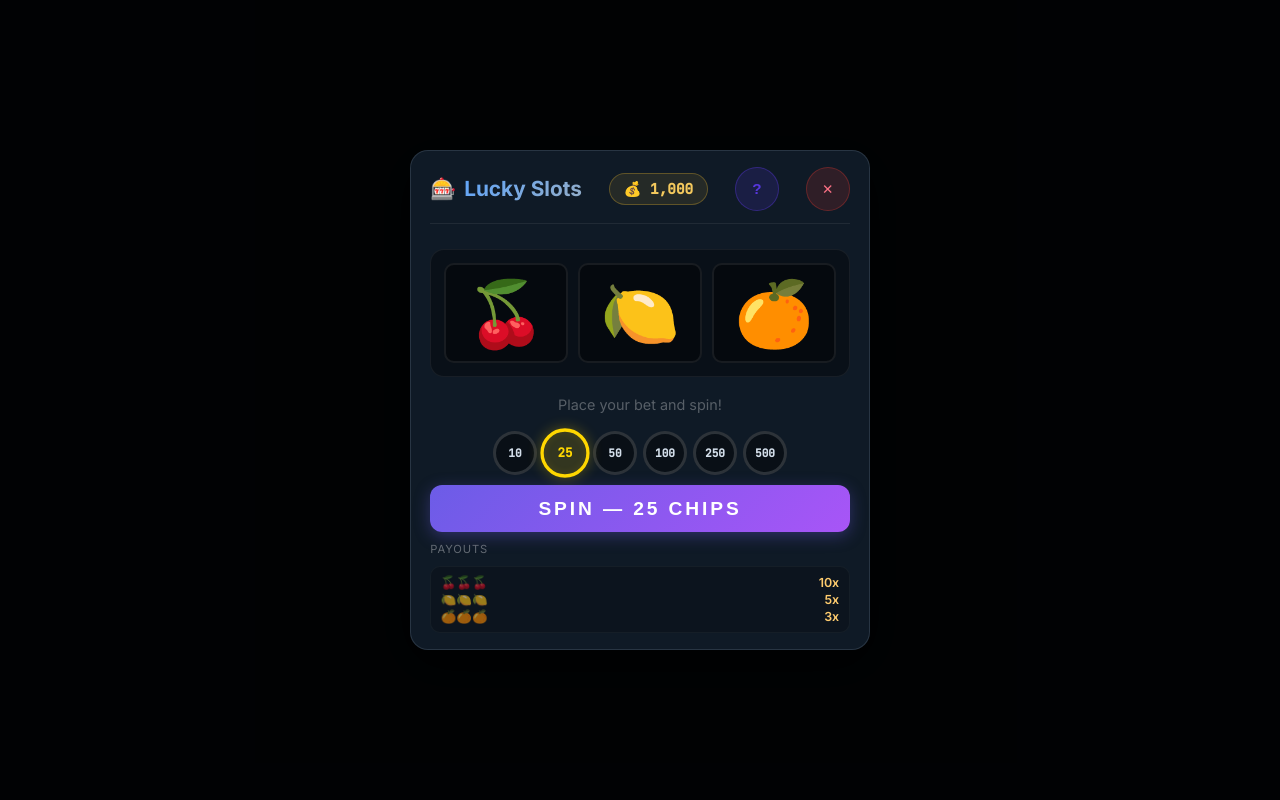
Test: SlotsBoard › chip selection › changes bet amount when chip clicked
Step 1. Click the button "100" → (665, 453), box [643,431,687,475]
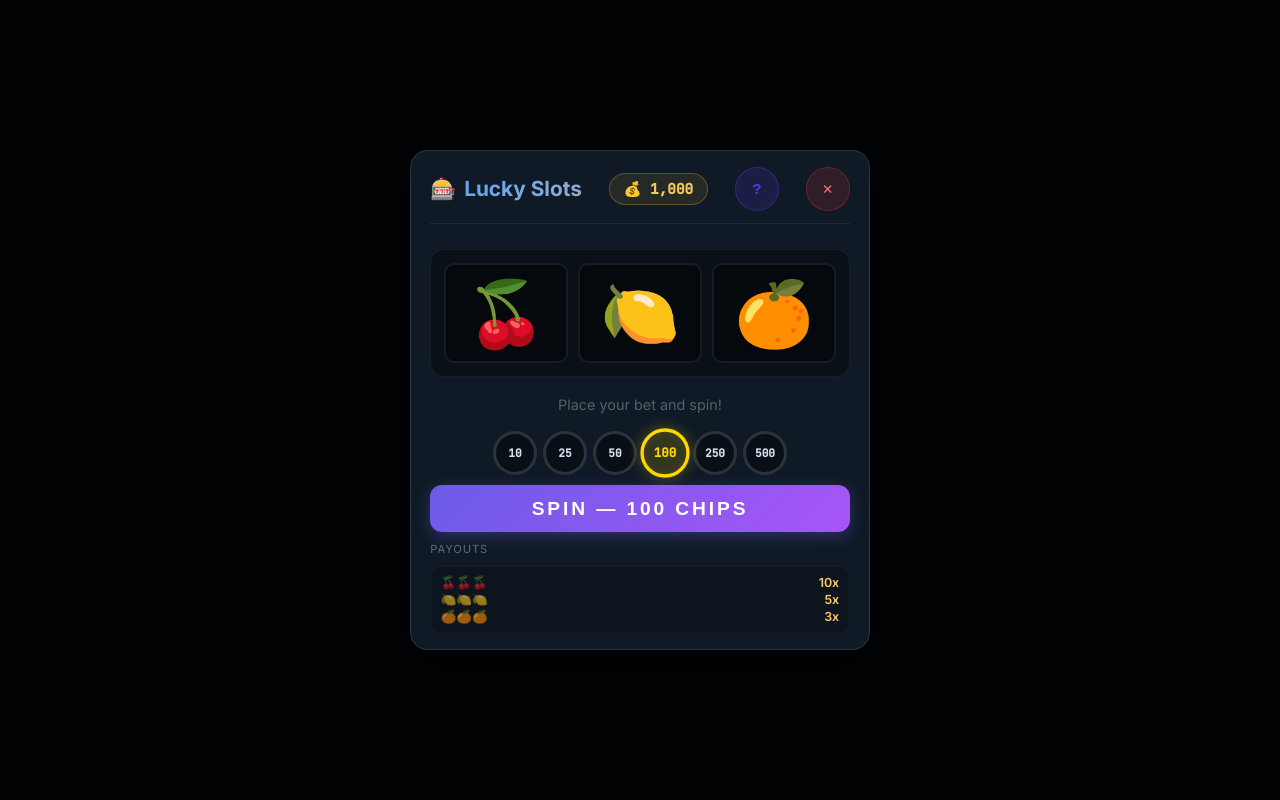
Expected: the button "SPIN — 100 chips" is shown, [430,485,850,532]
